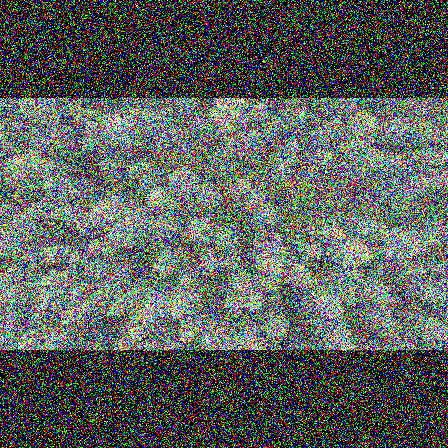Sick: (253, 234, 291, 266), (102, 263, 133, 290), (196, 249, 227, 276), (186, 110, 214, 137), (251, 102, 276, 122), (233, 112, 254, 135)
